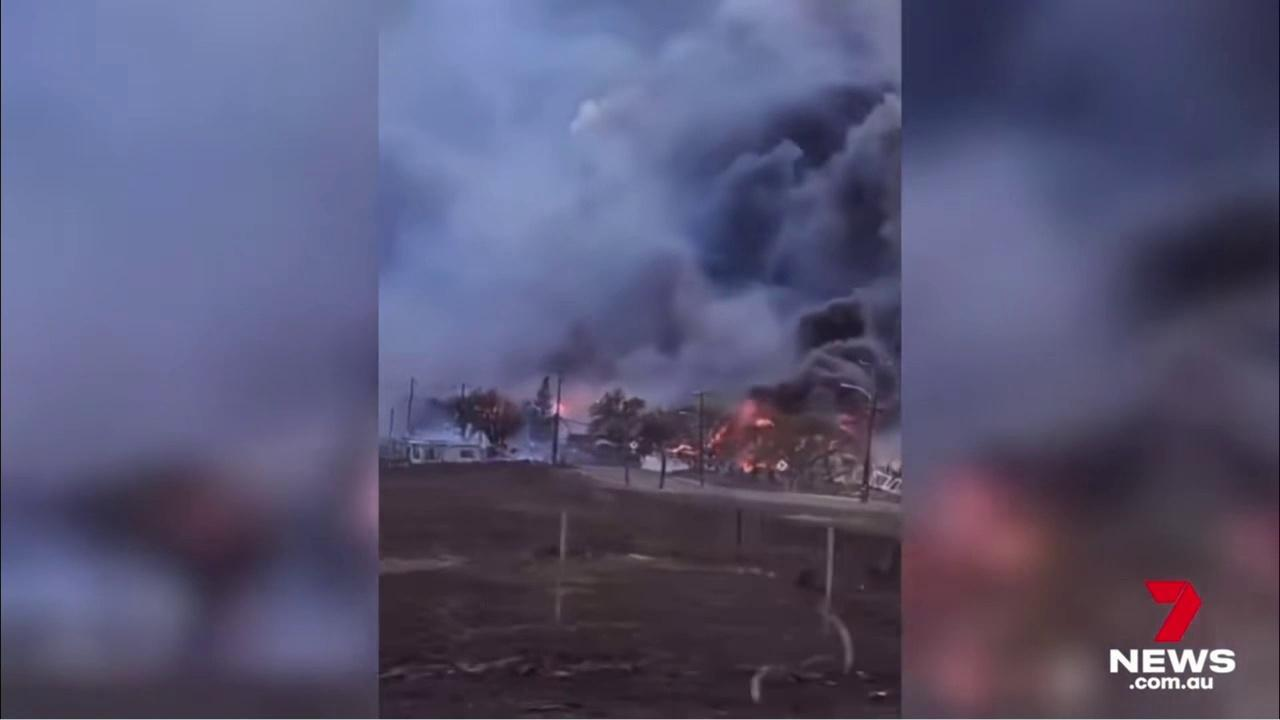fire: (703, 398, 774, 472), (554, 401, 566, 417)
smoke: (382, 0, 902, 454)
